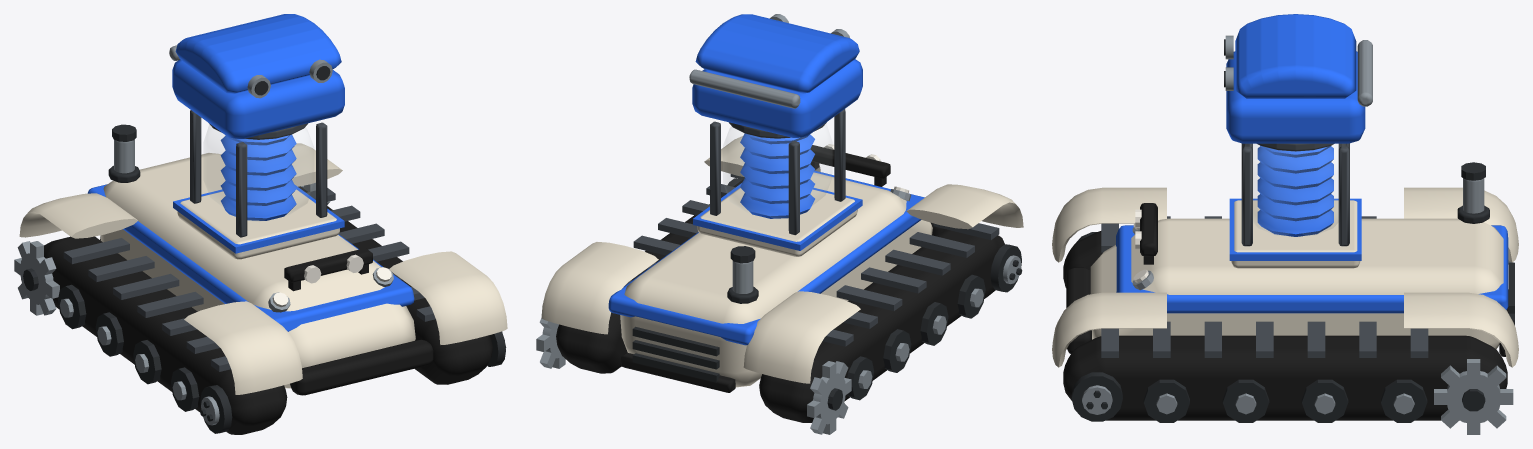
File: minelayer.glb
The picture shows the model from 3 angles, left to right: view 1: azimuth 30°, elevation 25°; view 2: azimuth 150°, elevation 25°; view 3: azimuth 270°, elevation 25°; orthographic projection. The views are drawn at different scales.
Parts seen in each view (by area): view 1: hull__M_CreamPlastic, gear__M_Licorice, lid__M_Team, cab_head__M_Team, hull__M_ClearGlass, hull__M_Team, tread_r__M_SmokePlastic, hull__M_Licorice, hull__M_SmokePlastic, gear__M_Dark, sprocket_r__M_SpringSteel, tread_l__M_SmokePlastic (+13 smaller); view 2: hull__M_CreamPlastic, gear__M_Licorice, lid__M_Team, hull__M_ClearGlass, hull__M_Team, cab_head__M_Team, tread_r__M_SmokePlastic, hull__M_SmokePlastic, gear__M_Dark, hull__M_Dark, sprocket_r__M_SpringSteel, cab_head__M_SpringSteel (+13 smaller); view 3: hull__M_CreamPlastic, gear__M_Licorice, lid__M_Team, hull__M_Team, hull__M_ClearGlass, cab_head__M_Team, gear__M_Dark, tread_l__M_SmokePlastic, sprocket_l__M_SpringSteel, hull__M_SmokePlastic, idler_l__M_Dark, gear__M_SpringSteel (+12 smaller).
Part boxes in pixels (bbox=[...]): hull__M_CreamPlastic: bbox=[19, 143, 507, 394]; gear__M_Licorice: bbox=[44, 186, 492, 434]; lid__M_Team: bbox=[175, 14, 341, 94]; cab_head__M_Team: bbox=[172, 59, 344, 139]; hull__M_ClearGlass: bbox=[204, 125, 313, 221]; hull__M_Team: bbox=[87, 184, 414, 331]; tread_r__M_SmokePlastic: bbox=[63, 238, 230, 371]; hull__M_Licorice: bbox=[100, 237, 433, 395]; hull__M_SmokePlastic: bbox=[190, 110, 327, 237]; gear__M_Dark: bbox=[58, 284, 199, 411]; sprocket_r__M_SpringSteel: bbox=[14, 241, 59, 315]; tread_l__M_SmokePlastic: bbox=[306, 188, 435, 321]; hull__M_CreamPlastic: bbox=[541, 136, 1023, 387]; gear__M_Licorice: bbox=[556, 180, 1004, 422]; lid__M_Team: bbox=[695, 14, 859, 93]; hull__M_ClearGlass: bbox=[723, 125, 831, 219]; hull__M_Team: bbox=[608, 170, 924, 345]; cab_head__M_Team: bbox=[692, 59, 862, 137]; tread_r__M_SmokePlastic: bbox=[823, 223, 999, 346]; hull__M_SmokePlastic: bbox=[710, 109, 845, 235]; gear__M_Dark: bbox=[847, 274, 985, 400]; hull__M_Dark: bbox=[632, 326, 719, 382]; sprocket_r__M_SpringSteel: bbox=[807, 361, 851, 434]; cab_head__M_SpringSteel: bbox=[689, 69, 800, 108]; hull__M_CreamPlastic: bbox=[1052, 187, 1518, 367]; gear__M_Licorice: bbox=[1063, 231, 1507, 420]; lid__M_Team: bbox=[1235, 14, 1356, 98]; hull__M_Team: bbox=[1116, 198, 1508, 313]; hull__M_ClearGlass: bbox=[1246, 144, 1345, 235]; cab_head__M_Team: bbox=[1226, 51, 1365, 143]; gear__M_Dark: bbox=[1143, 379, 1427, 422]; tread_l__M_SmokePlastic: bbox=[1101, 321, 1428, 357]; sprocket_l__M_SpringSteel: bbox=[1434, 359, 1513, 434]; hull__M_SmokePlastic: bbox=[1241, 143, 1349, 246]; idler_l__M_Dark: bbox=[1071, 372, 1122, 421]; gear__M_SpringSteel: bbox=[1156, 393, 1414, 414].
Bounding box in the file's own units: 0.696 × 0.6909 × 0.9057.
